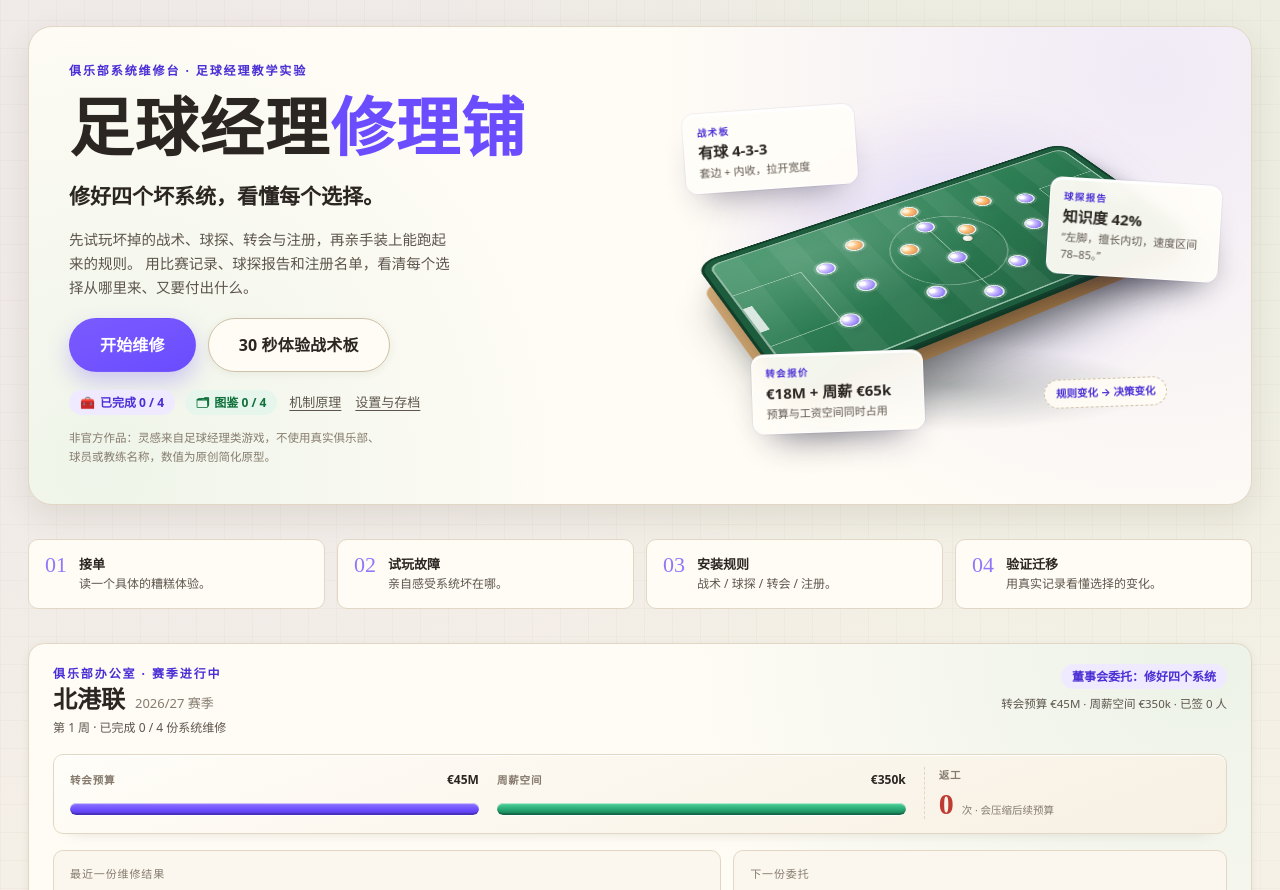
用户流程冒烟测试（足球经理题材） › 30 秒体验入口直接进入故障试玩
The image size is (1280, 890).
Click the button "30 秒体验战术板" at (299, 345), box x1=208 y1=318 x2=390 y2=372
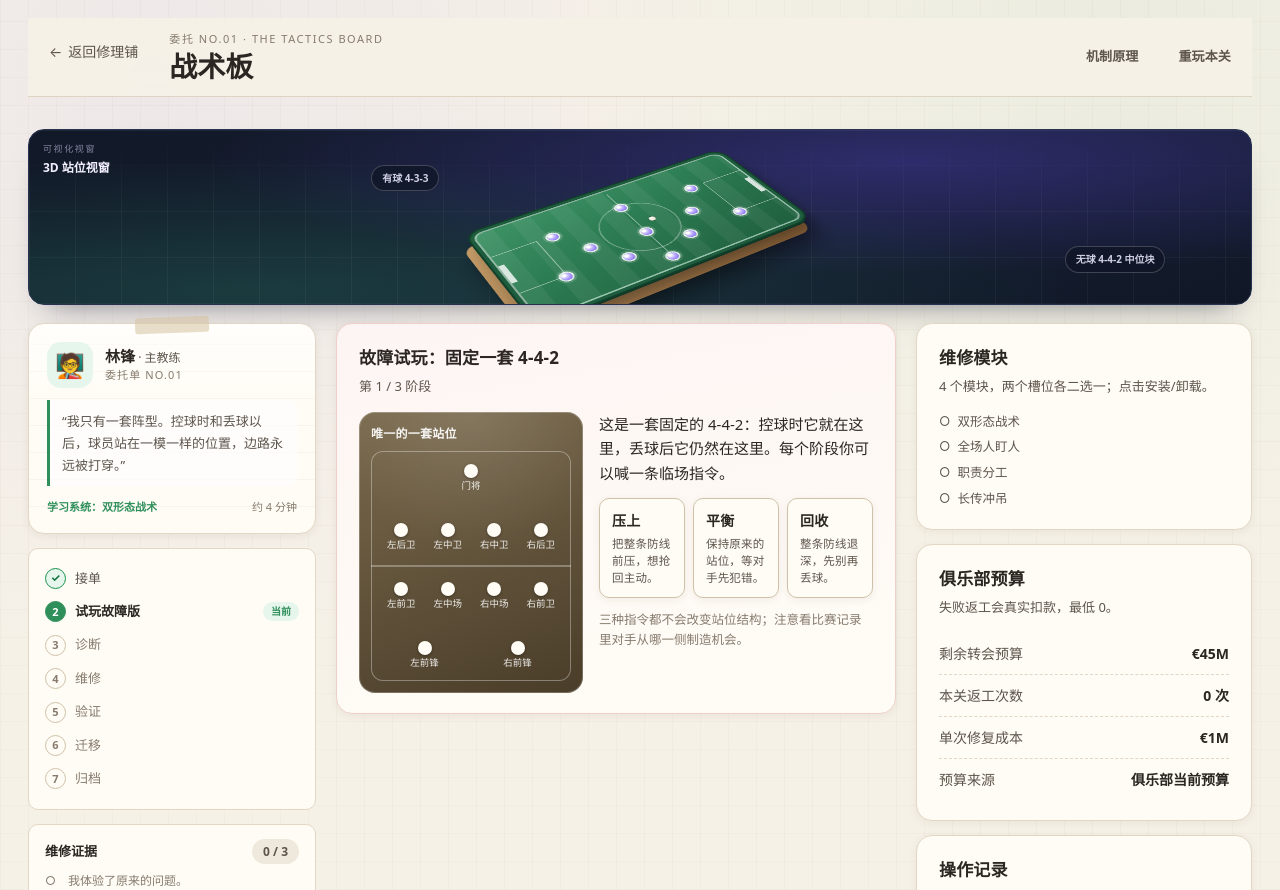
Expected: the heading "战术板" is shown, x1=169 y1=47 x2=253 y2=85
Now the heading "故障试玩：固定一套 4-4-2" is shown, box x1=359 y1=344 x2=559 y2=372
